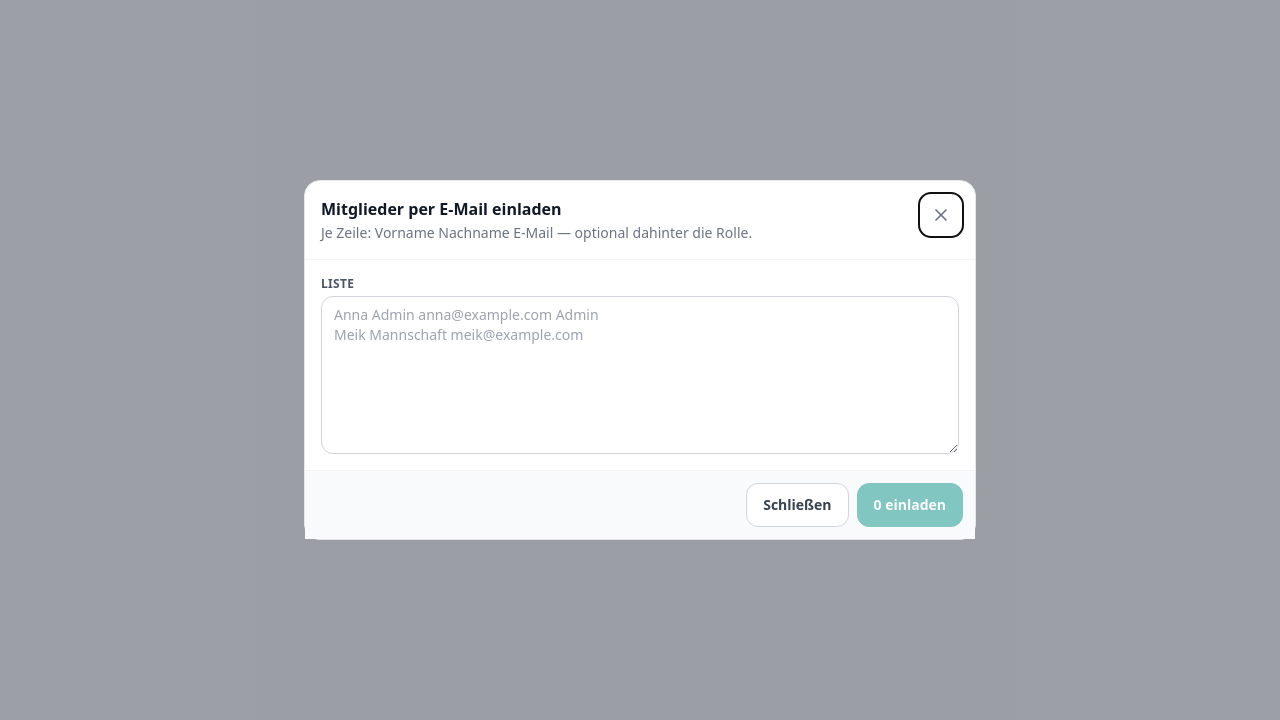
it: InviteDialog › legt ein Profil an und ruft danach die Einladungsfunktion
Step 1. Type "Meik Mannschaft meik@example.com" into the text box labelled "Liste" → x=640, y=375, box [321,296,959,454]
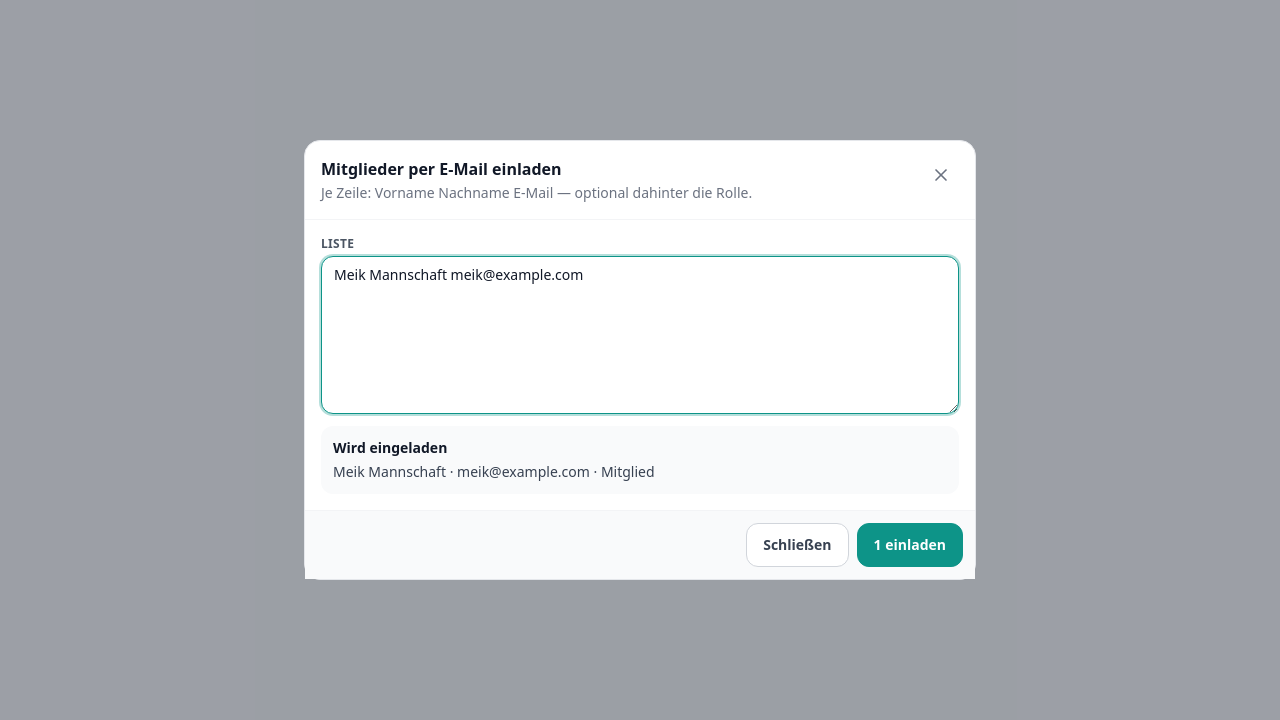
Step 2. Click the button "1 einladen" → x=910, y=545, box [856,523,963,567]
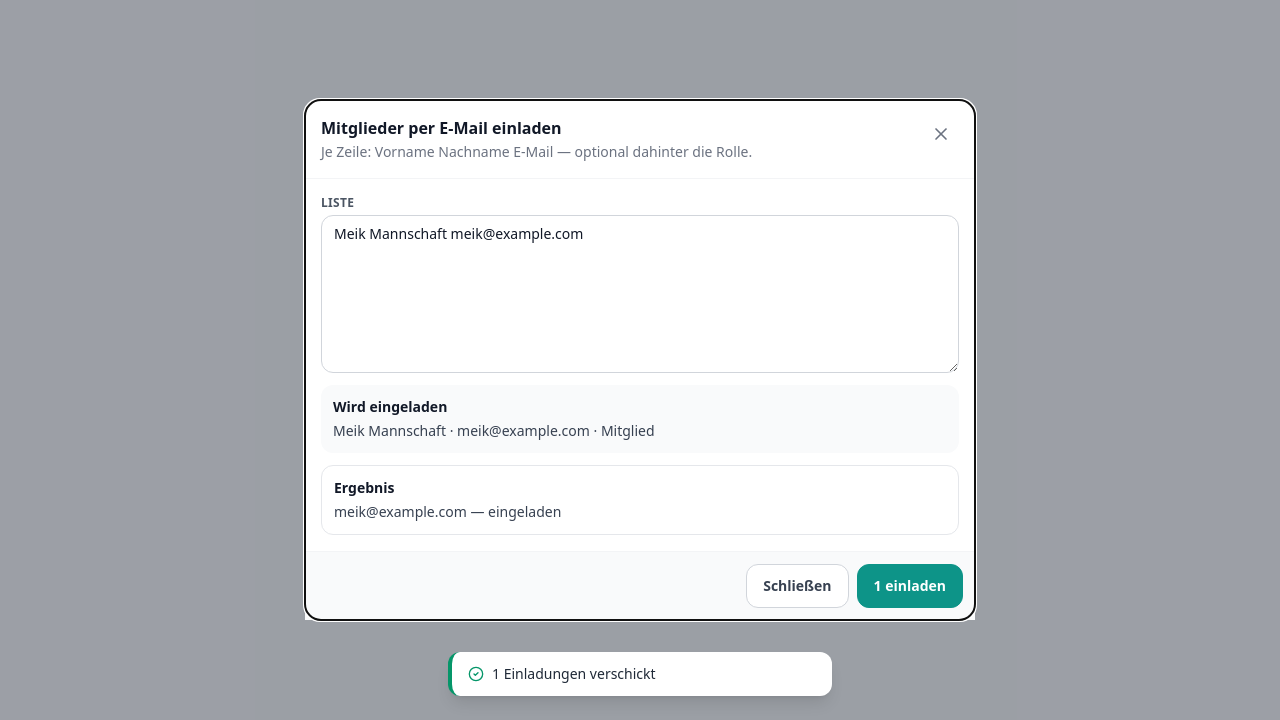
Result: the list item "meik@example.com — eingeladen" is shown at [334,502,561,521]
